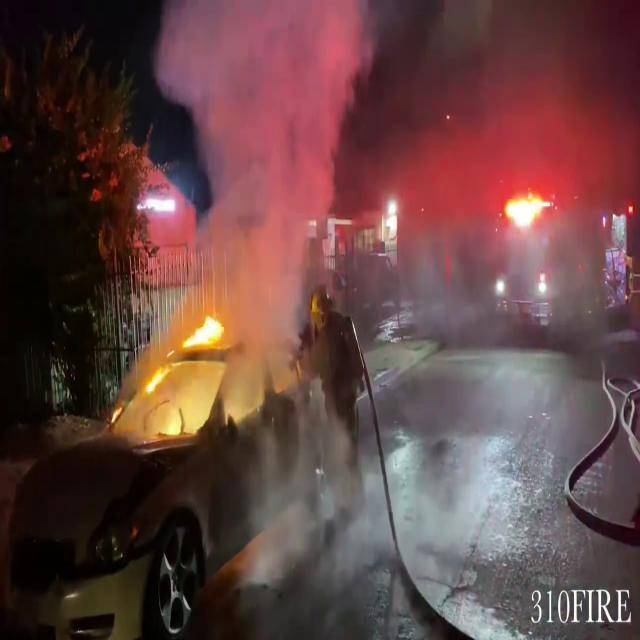Fire: (185, 302, 228, 352)
Smoke: (344, 1, 640, 273), (158, 1, 370, 358)
